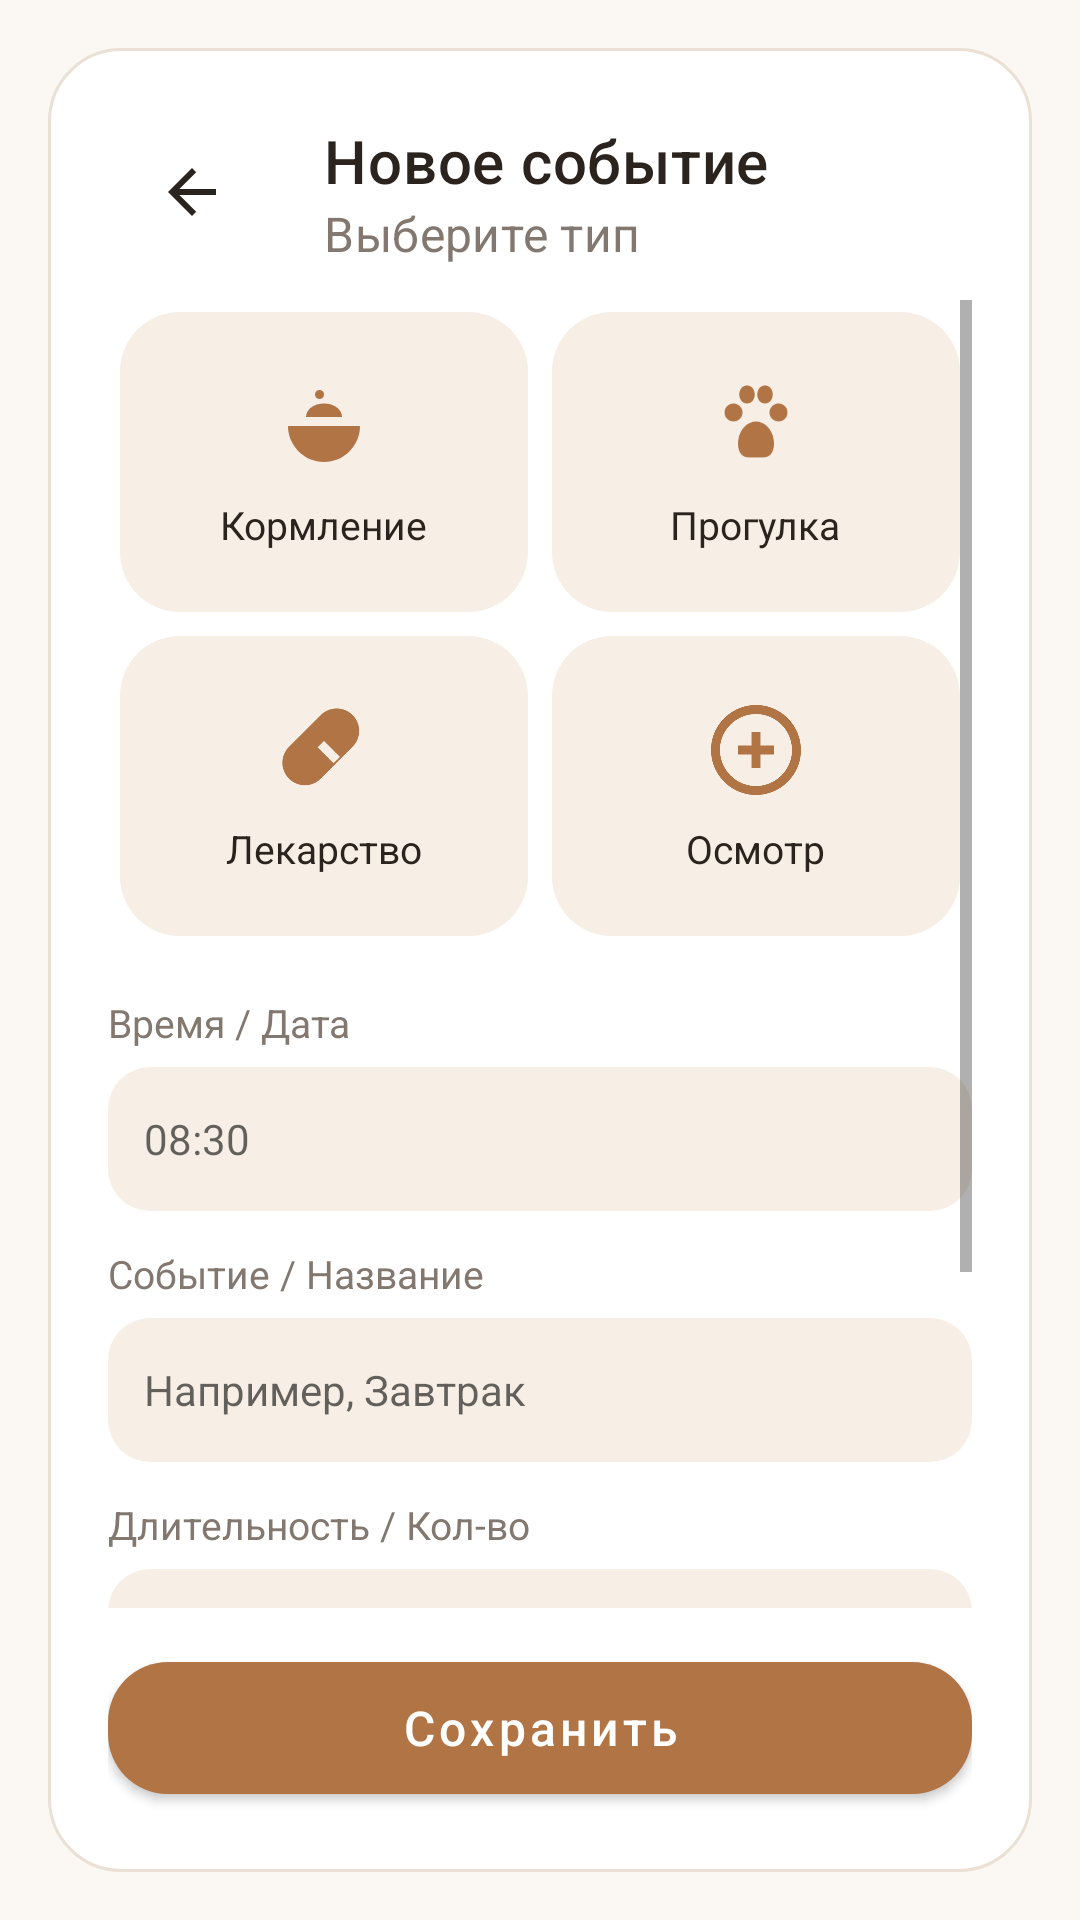

Screen size 1080*1920. Icon name, then its box in pixels as bbox(x1, y1, x2, y2):
feeding: bbox(288, 390, 360, 462)
medicine: bbox(282, 708, 359, 785)
walk: bbox(724, 385, 788, 458)
